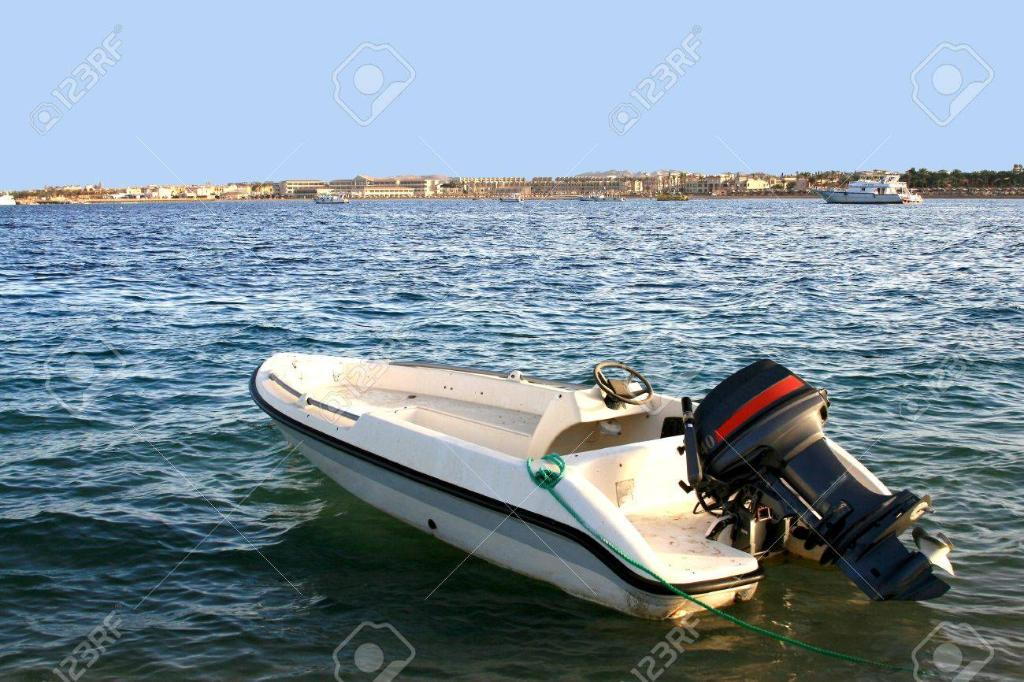PassengerShip: (817, 168, 933, 207)
